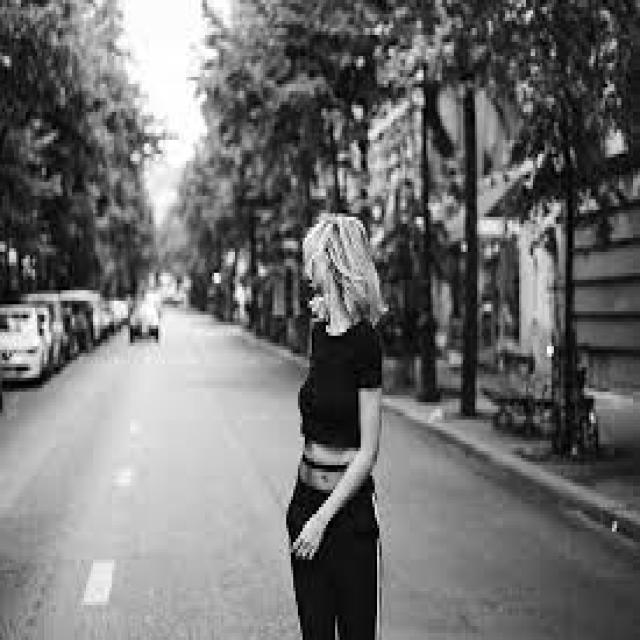Passenger Car: (124, 304, 160, 343)
Pedestrians: (286, 210, 386, 640)
